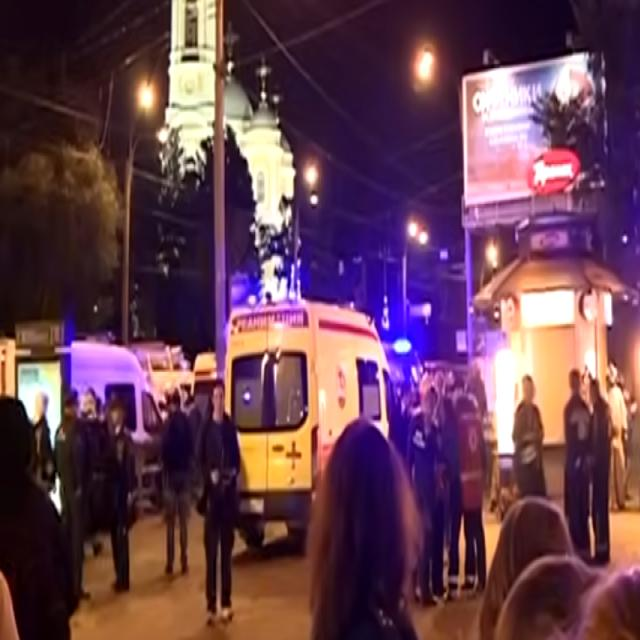intensive care unit: (224, 295, 405, 552)
